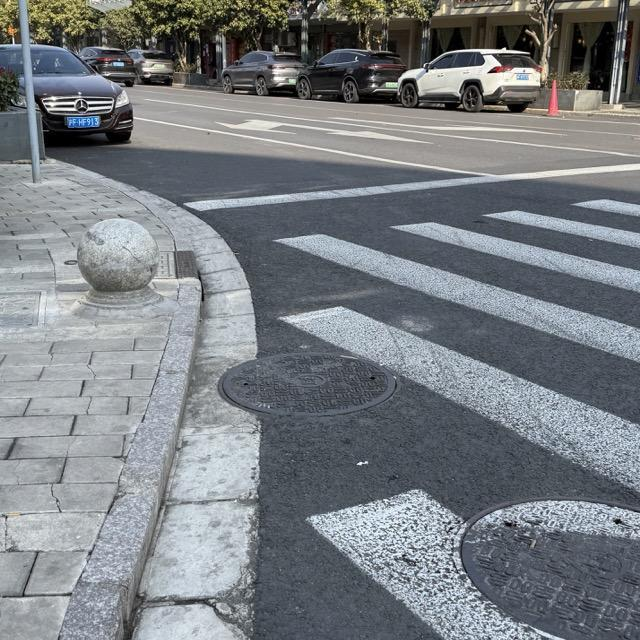curb: (59, 279, 201, 639), (70, 167, 194, 252), (560, 111, 640, 121), (524, 109, 548, 115)
